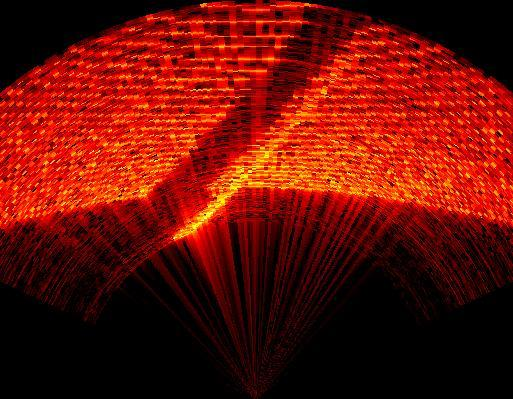pipe: (146, 8, 372, 238)
